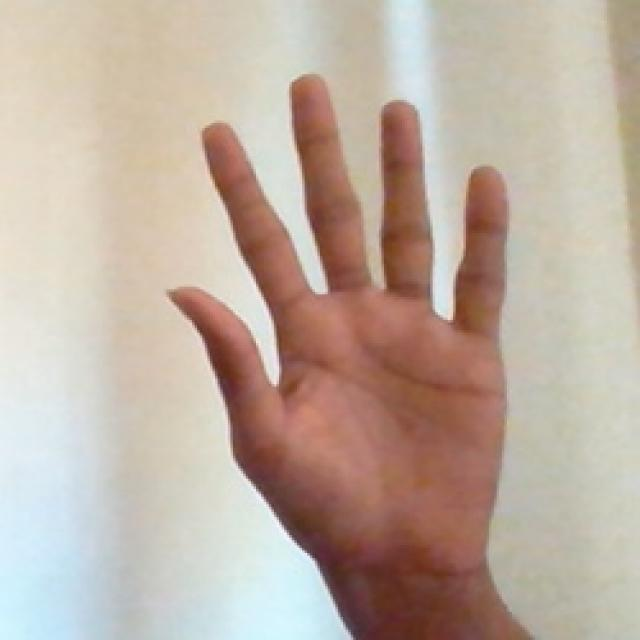Numeric-5: (155, 61, 514, 612)
